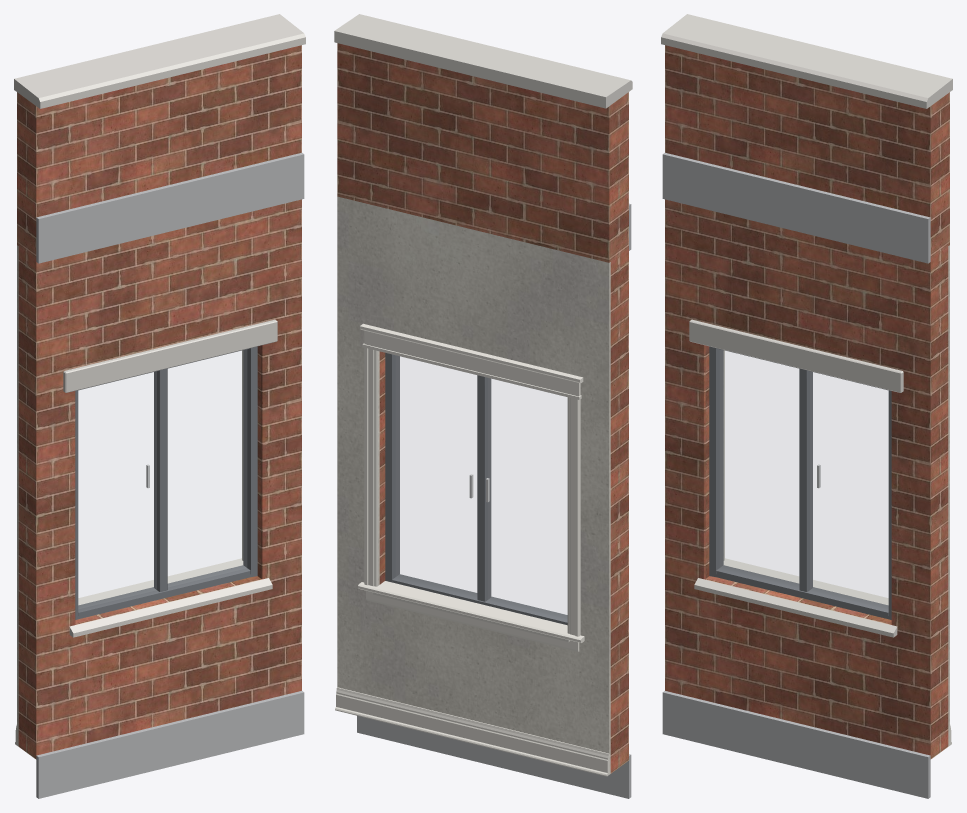
The model's file is pu_win.glb.
3 renders of one model, left to right at view 1: azimuth 30°, elevation 25°; view 2: azimuth 150°, elevation 25°; view 3: azimuth 330°, elevation 25°, orthographic. The views are drawn at different scales.
Parts seen in each view (by area): view 1: pu_win_brick, folha_glass, pu_win_band, pu_win_cill, pu_win_frame, molduras, pu_win_plaster; view 2: pu_win_plaster, pu_win_brick, folha_glass, molduras, pu_win_cill, pu_win_frame, pu_win_band; view 3: pu_win_brick, folha_glass, pu_win_band, pu_win_cill, pu_win_frame, molduras, pu_win_plaster.
Boxes of the visible parts, bbox=[...] form: pu_win_brick: bbox=[17, 45, 301, 759]; folha_glass: bbox=[79, 350, 246, 608]; pu_win_band: bbox=[36, 152, 304, 798]; pu_win_cill: bbox=[14, 14, 305, 637]; pu_win_frame: bbox=[75, 346, 257, 619]; molduras: bbox=[15, 350, 243, 745]; pu_win_plaster: bbox=[17, 245, 243, 746]; pu_win_plaster: bbox=[337, 196, 610, 774]; pu_win_brick: bbox=[337, 43, 628, 773]; folha_glass: bbox=[396, 356, 566, 617]; molduras: bbox=[335, 323, 609, 776]; pu_win_cill: bbox=[334, 14, 632, 641]; pu_win_frame: bbox=[385, 353, 567, 625]; pu_win_band: bbox=[357, 203, 631, 798]; pu_win_brick: bbox=[665, 45, 949, 759]; folha_glass: bbox=[720, 350, 887, 608]; pu_win_band: bbox=[662, 152, 930, 798]; pu_win_cill: bbox=[661, 14, 952, 637]; pu_win_frame: bbox=[709, 346, 891, 619]; molduras: bbox=[723, 350, 951, 745]; pu_win_plaster: bbox=[723, 245, 949, 746].
Bounding box in the file's own units: 2 × 5.05 × 0.35.
8 materials, 2 textured.
